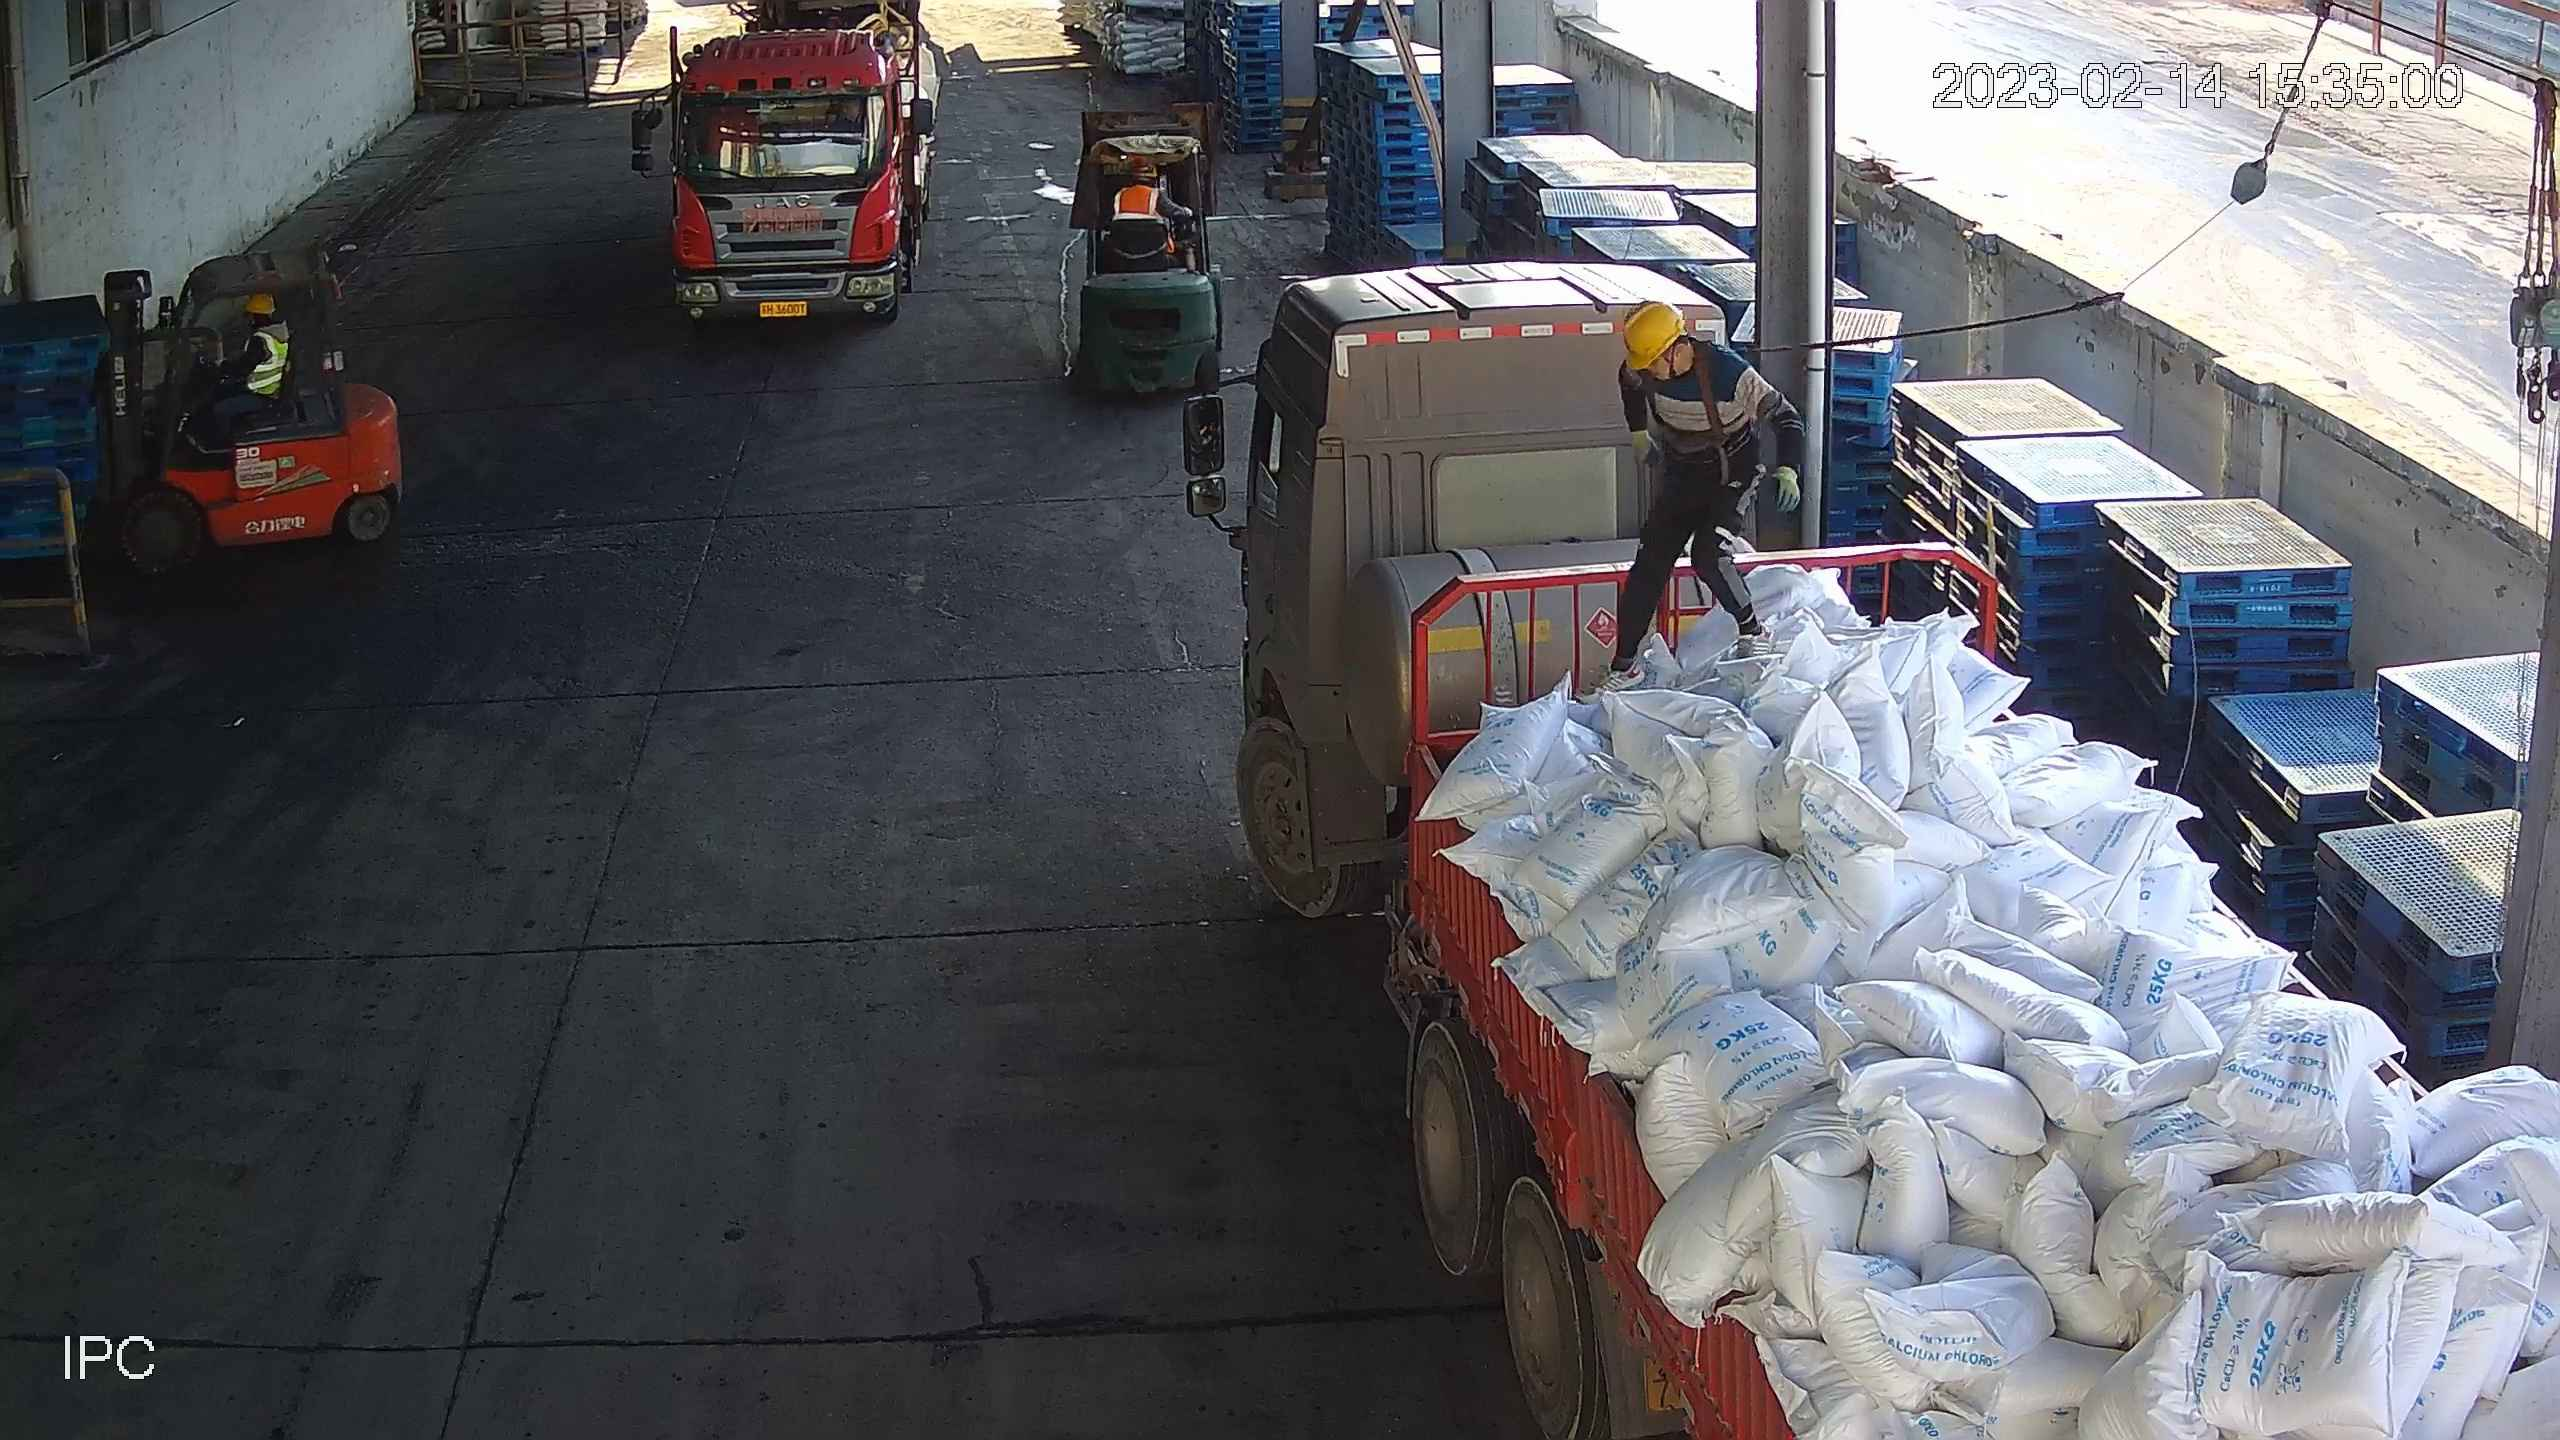belt: (1644, 369, 1730, 463)
head: (1609, 302, 1737, 406), (225, 293, 286, 353)
helmet: (1618, 301, 1693, 365), (242, 286, 281, 318)
people: (1602, 293, 1811, 692), (190, 297, 300, 432)
truck: (1169, 251, 2560, 1440), (607, 1, 970, 344)
